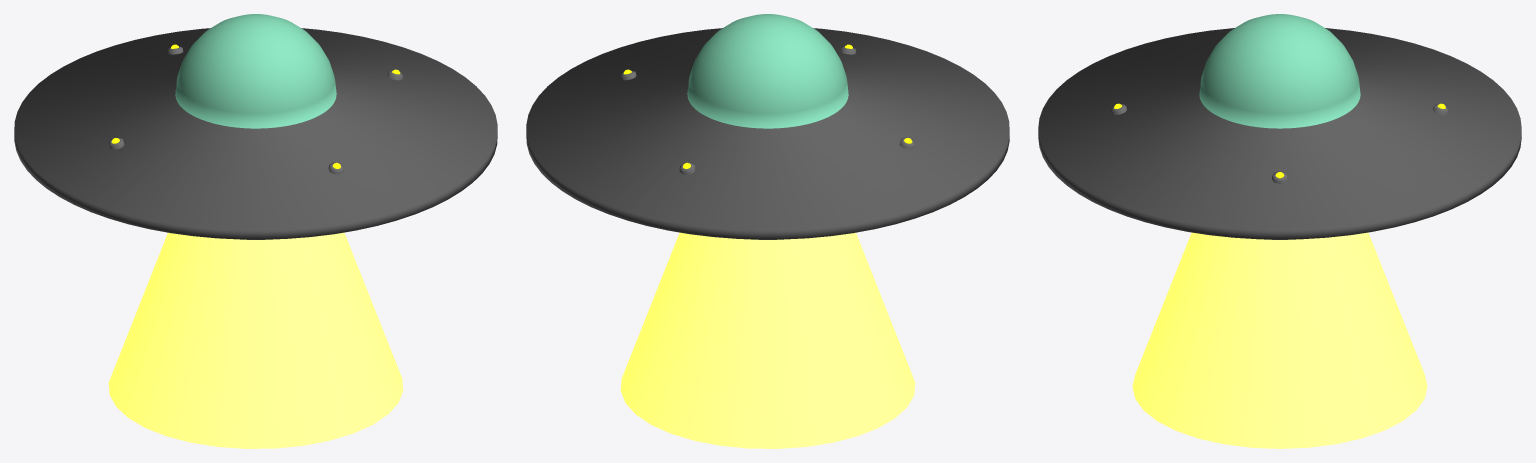
Rendered from UFO Model.fbx.
The picture shows the model from 3 angles, left to right: view 1: azimuth 30°, elevation 25°; view 2: azimuth 150°, elevation 25°; view 3: azimuth 270°, elevation 25°; orthographic projection.
Parts seen in each view (by area): view 1: UFO, UFO Beam; view 2: UFO, UFO Beam; view 3: UFO, UFO Beam.
Boxes of the visible parts, bbox=[...] form: UFO: bbox=[14, 14, 497, 239]; UFO Beam: bbox=[108, 232, 403, 448]; UFO: bbox=[526, 14, 1009, 239]; UFO Beam: bbox=[620, 232, 915, 448]; UFO: bbox=[1038, 14, 1521, 239]; UFO Beam: bbox=[1132, 232, 1427, 448].
Bounding box in the file's own units: 600 × 500 × 600.
